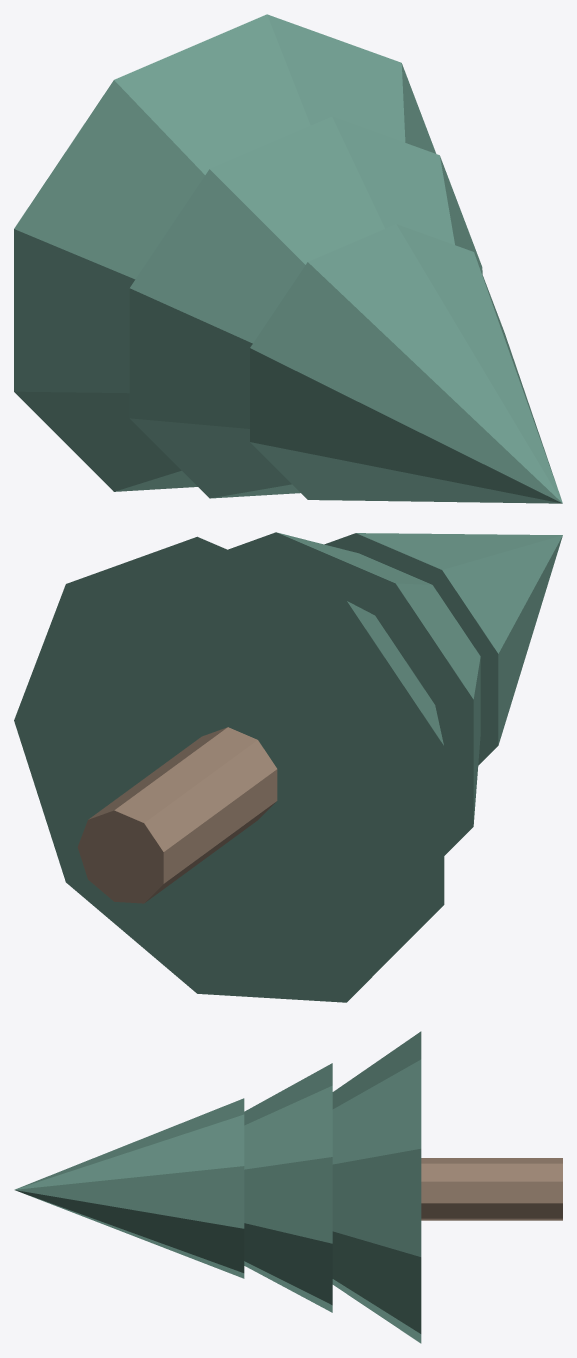
The model's file is pine_tree.glb.
3 views of the same model, one above another, from view 1: azimuth 30°, elevation 25°; view 2: azimuth 150°, elevation 25°; view 3: azimuth 270°, elevation 25° (orthographic). The views are drawn at different scales.
Parts seen in each view (by area): view 1: world; view 2: world; view 3: world.
Boxes of the visible parts, x1=… form: world: x1=14, y1=14, x2=562, y2=503; world: x1=14, y1=532, x2=562, y2=1002; world: x1=14, y1=1031, x2=562, y2=1343.
Bounding box in the file's own units: 1.75 × 1.77 × 3.1.
